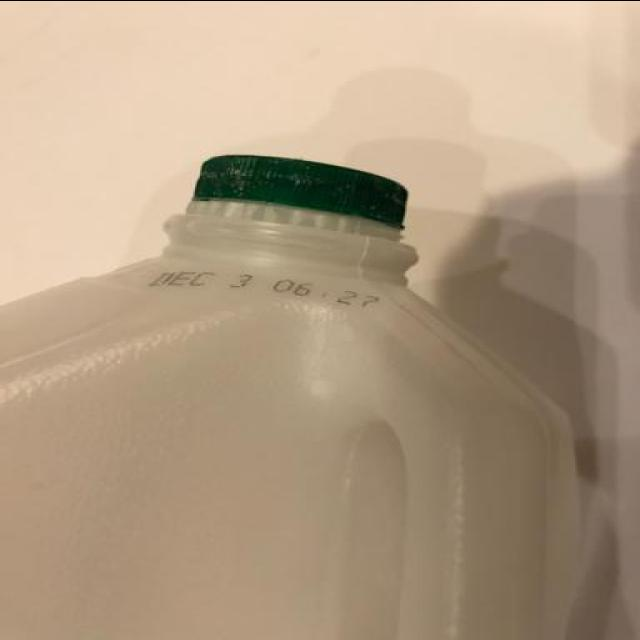HDPEM: (0, 126, 582, 635), (2, 150, 578, 640)
